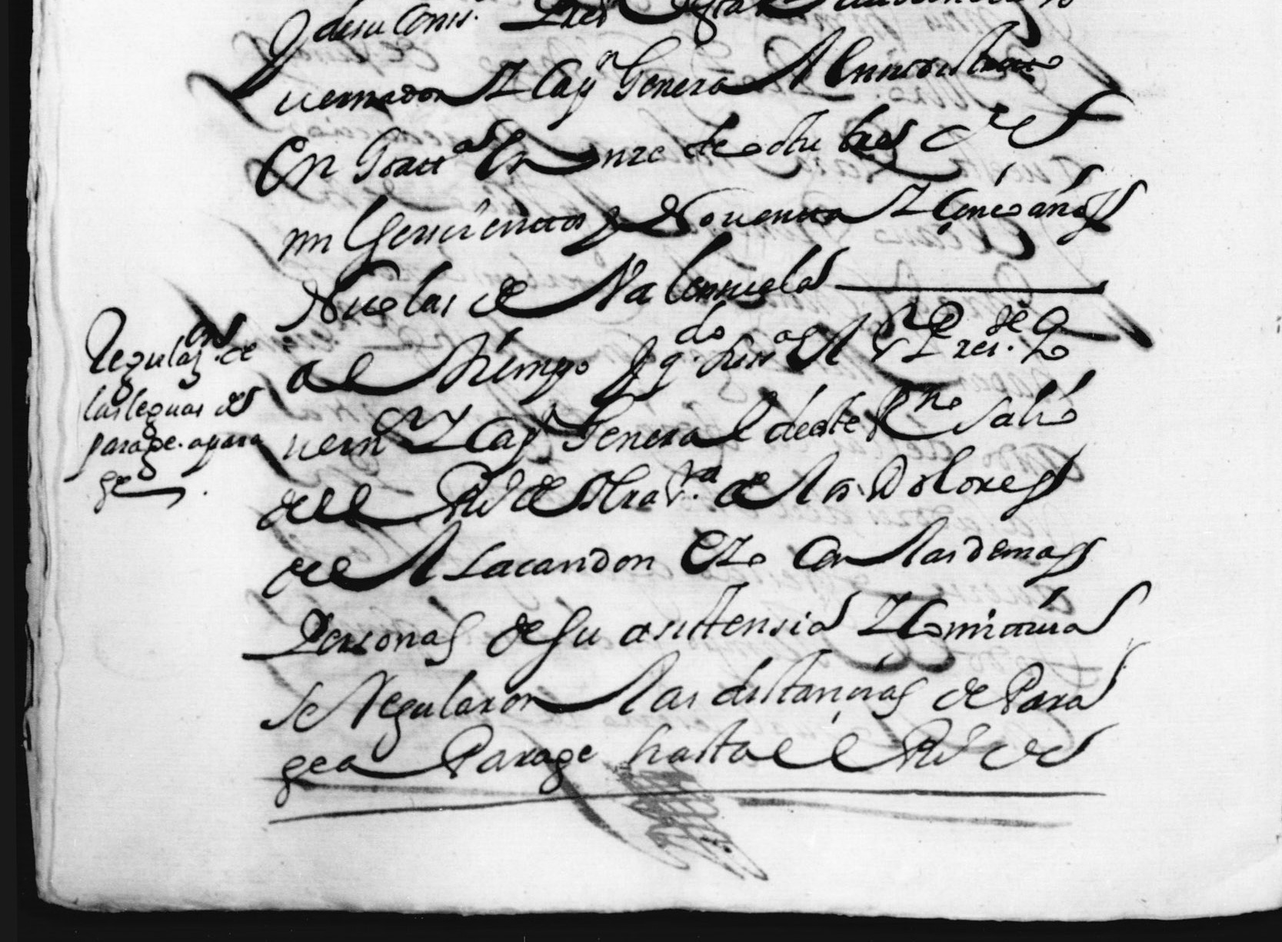lacandon: (442, 541, 654, 581)
